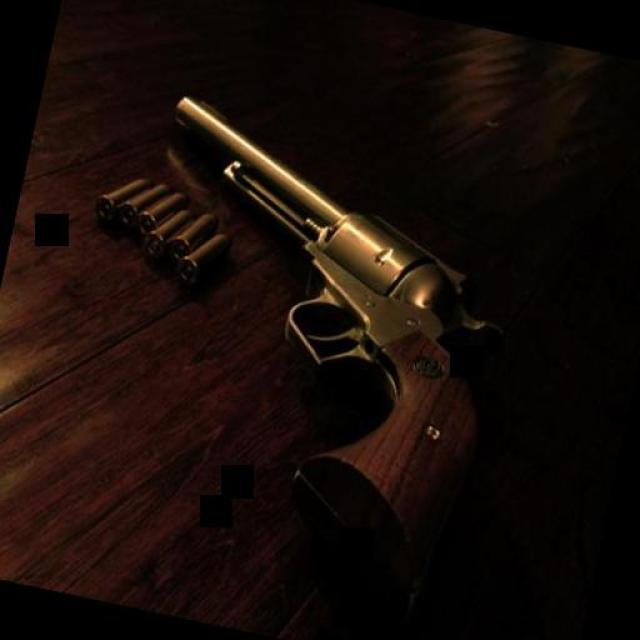gun: (76, 85, 530, 624)
